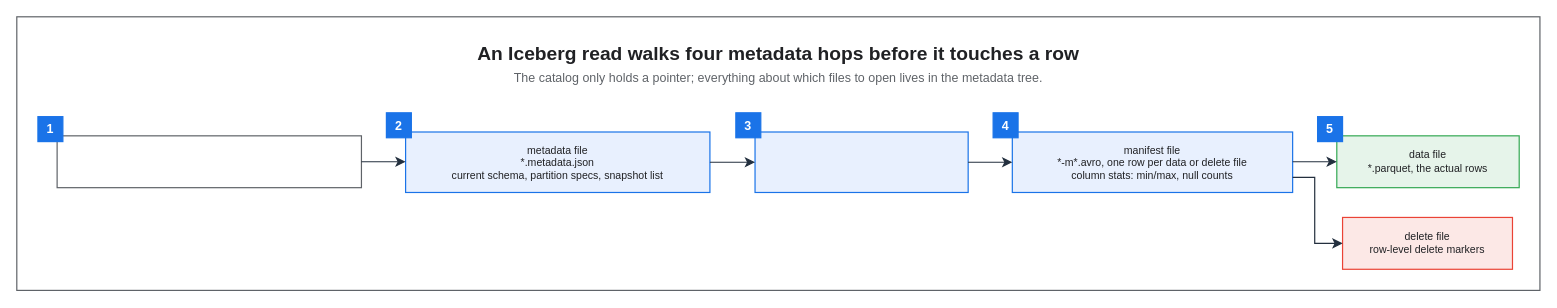
Image size: 1557x308. Some labels were removed from this diagram. The centre of each missing label's shape, as x and y in pixels:
Catalog holds the pointer to the current metadata file: [209,161]
manifest list snap-*.avro = one snapshot the manifest files it points to: [861,162]
